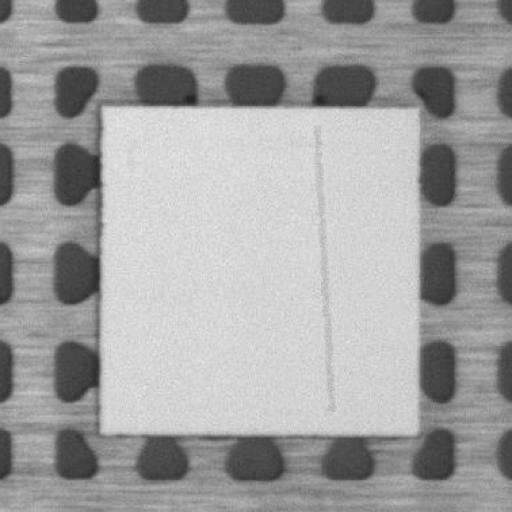DIE_CRACK: (325, 123, 340, 397)
